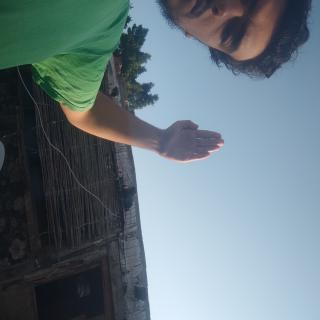SEEN: (88, 126, 124, 220)
